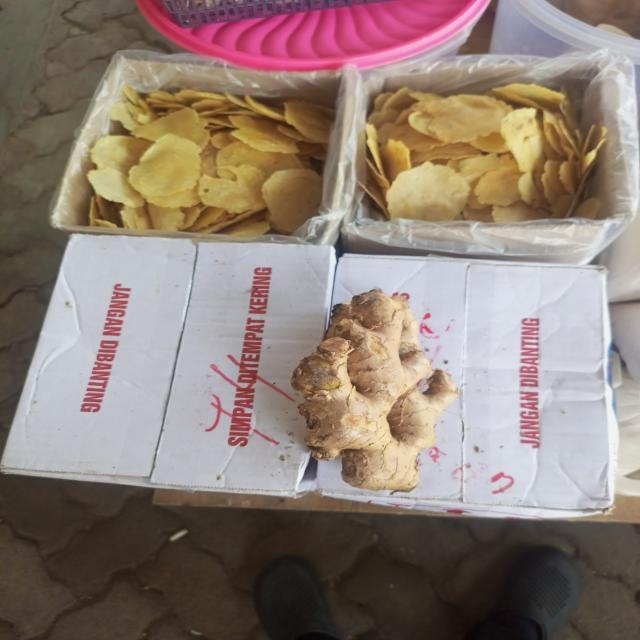ginger: (296, 292, 460, 489)
